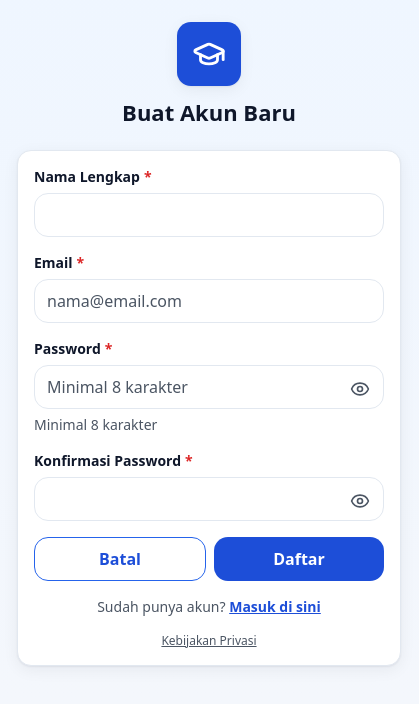
Test: RegisterPage › daftar sukses -> sesi diumumkan dan sambutan tampil
The width and height of the screenshot is (419, 704).
Step 1. Type "Budi Siswa" into the field labelled "Nama Lengkap*" → (209, 215), box [34, 193, 384, 237]
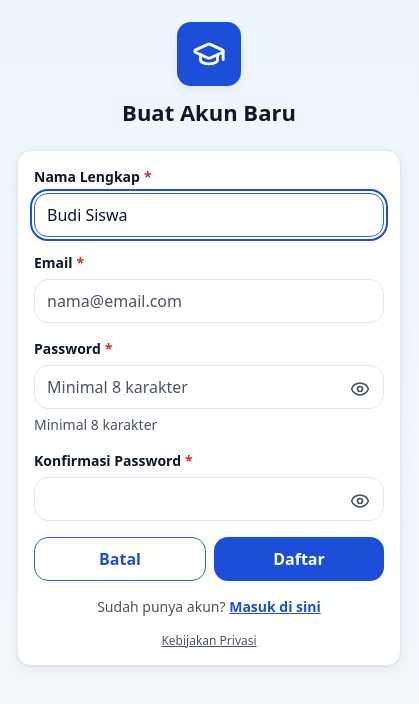
Step 2. Type "sari@example.test" into the field labelled "Email*" → (209, 301), box [34, 279, 384, 323]
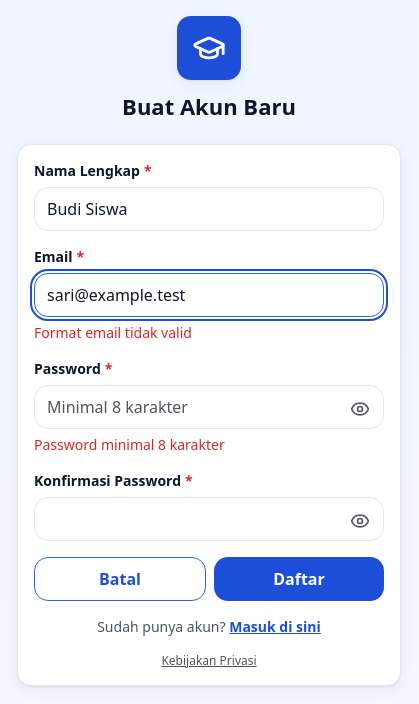
Step 3. Type "PasswordKuat1" into the password field labelled "Password*" → (209, 407), box [34, 385, 384, 429]
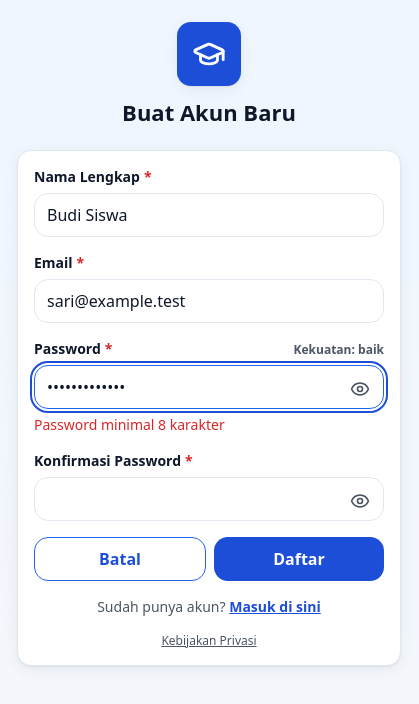
Step 4. Type "PasswordKuat1" into the password field labelled "Konfirmasi Password*" → (209, 499), box [34, 477, 384, 521]
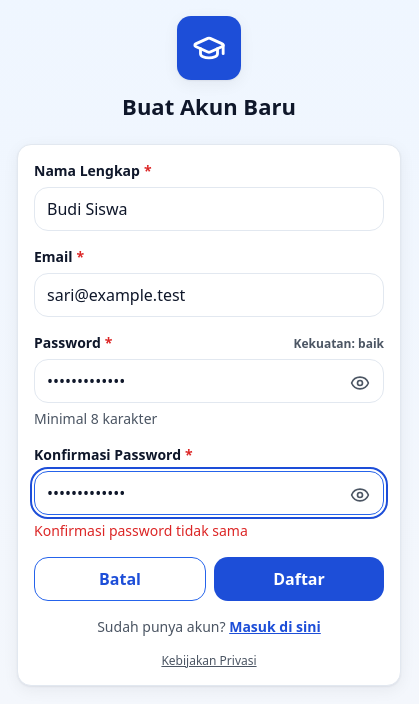
Step 5. Click the button "Daftar" → (299, 579), box [214, 557, 384, 601]
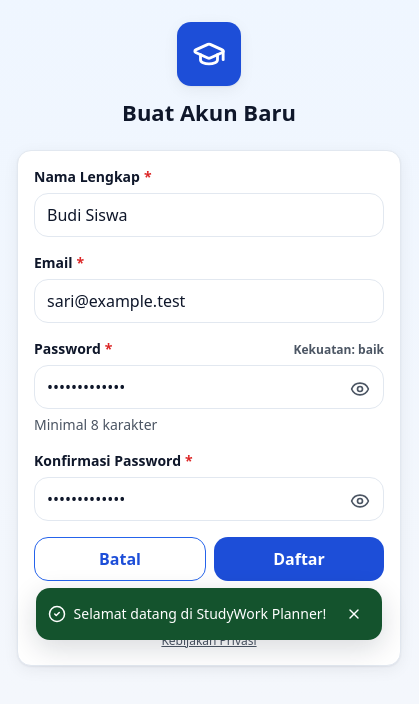
expect the text "Selamat datang di StudyWork Planner!" is shown: met, box [74, 604, 326, 624]
